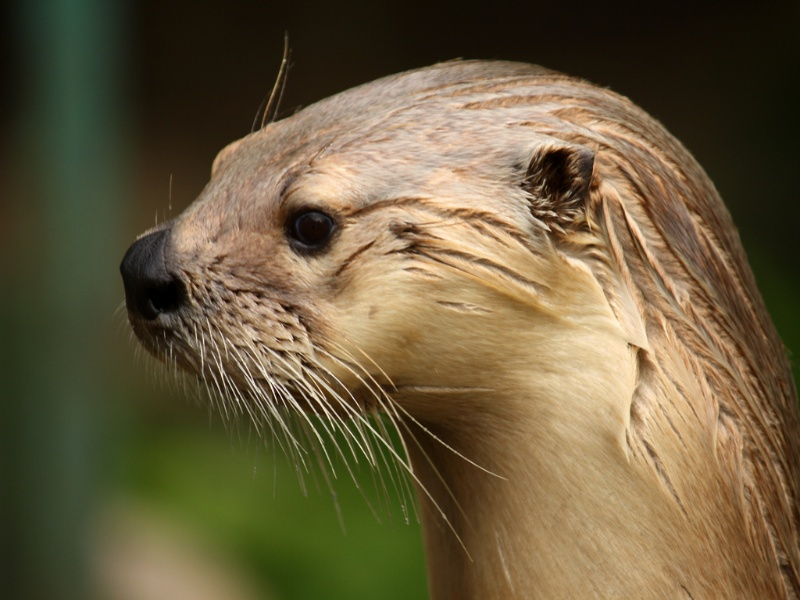minkish: (122, 49, 797, 591)
